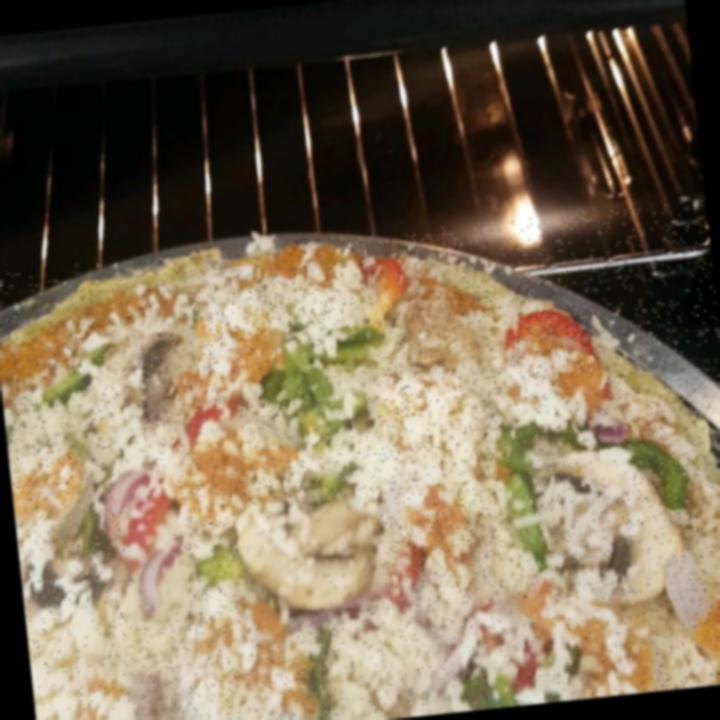Cheese: (335, 589, 660, 720), (378, 375, 498, 601), (46, 620, 271, 720), (195, 276, 356, 336), (12, 401, 142, 474)
Mushroom: (554, 448, 684, 611), (237, 492, 386, 614), (84, 332, 182, 432)
Onion: (134, 542, 188, 617)
Peppers: (270, 324, 384, 434), (492, 420, 557, 568), (630, 434, 695, 510), (38, 341, 112, 406), (192, 547, 244, 588), (299, 466, 350, 500)
Pizza: (0, 198, 720, 720)
Tomatoes: (503, 305, 604, 384), (114, 474, 184, 548), (356, 249, 414, 327), (169, 394, 248, 448)
